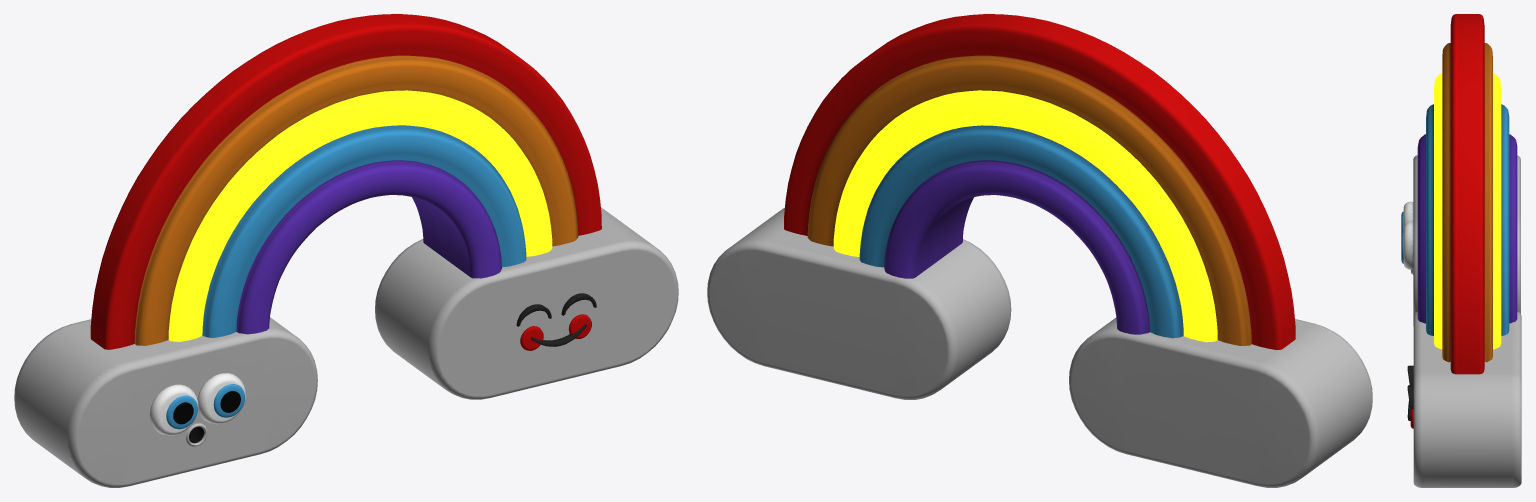
The model's file is Rainbow_animation.glb.
3 views of the same model, side by side, from view 1: azimuth 30°, elevation 25°; view 2: azimuth 150°, elevation 25°; view 3: azimuth 270°, elevation 25° (orthographic). The views are drawn at different scales.
Visible parts, largest first — view 1: personified_rainbow.1; view 2: personified_rainbow.1; view 3: personified_rainbow.1.
Boxes of the visible parts, bbox=[...] form: personified_rainbow.1: bbox=[14, 14, 678, 487]; personified_rainbow.1: bbox=[707, 14, 1372, 487]; personified_rainbow.1: bbox=[1401, 14, 1521, 487].
Size of the model in its own units: 0.3894 by 0.2321 by 0.075.
Materials: 1 (1 with a texture image).
